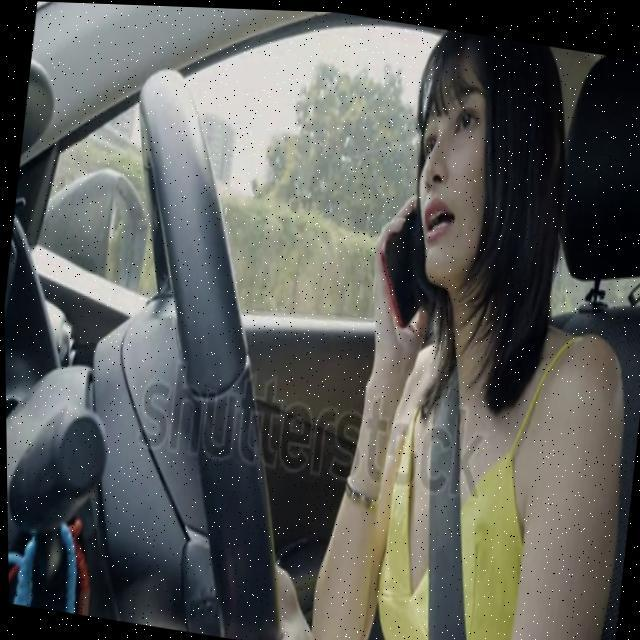PhoneCall: (368, 177, 444, 330)
